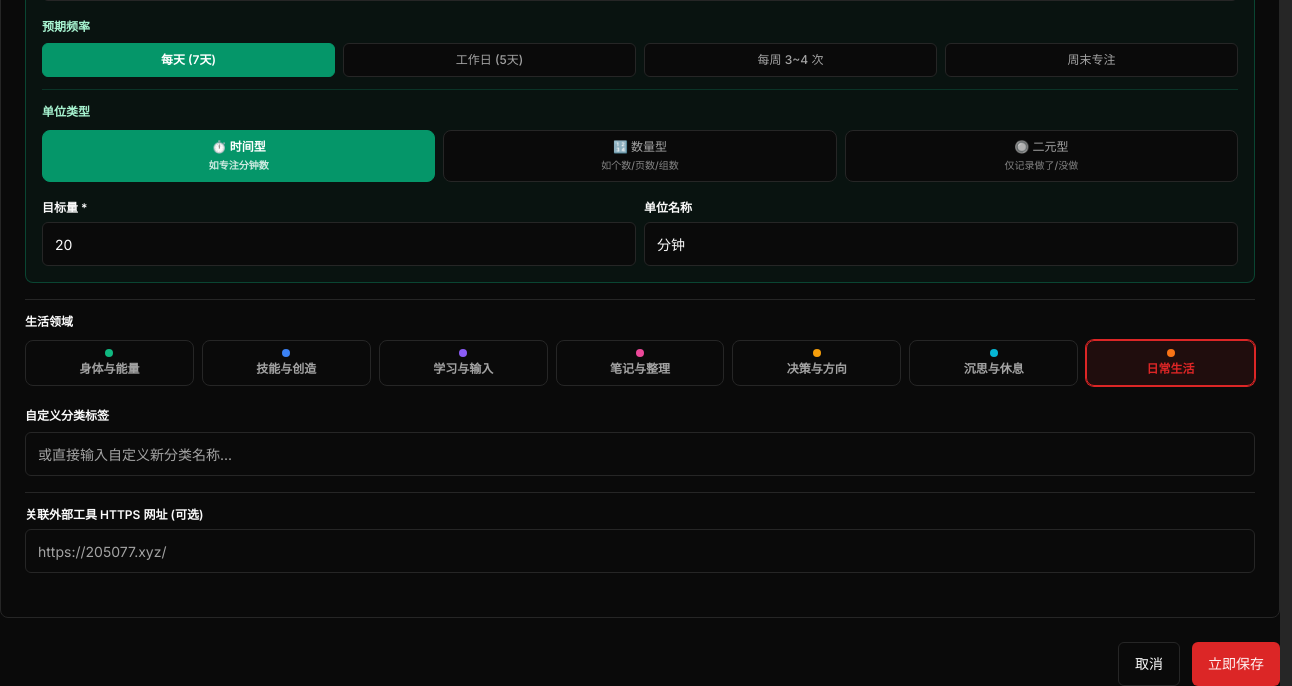
Test case: life-layer default URL examples › fills an empty full-form URL with Enter and tracks it as a recommendation
(page scrolled)
Focus the field labelled "关联外部工具 HTTPS 网址 (可选)" at (640, 551), box [25,529,1255,573]
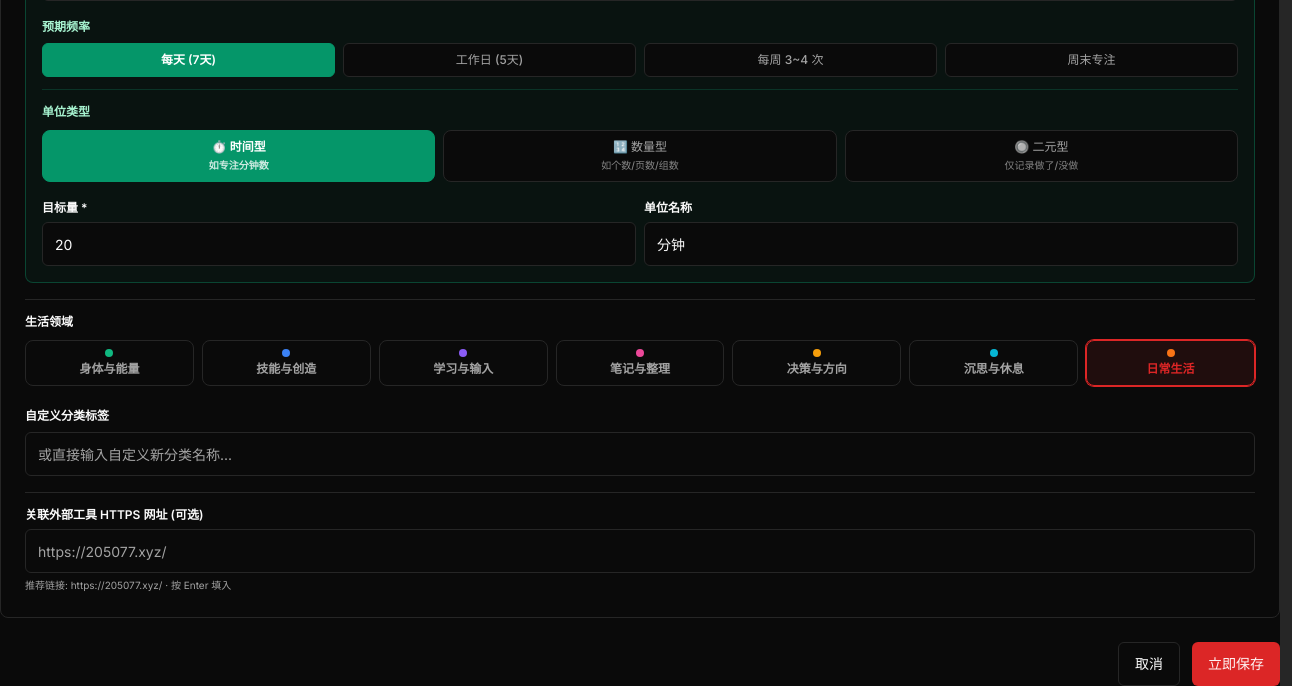
Press Enter in the field labelled "关联外部工具 HTTPS 网址 (可选)", box [25,529,1255,573]
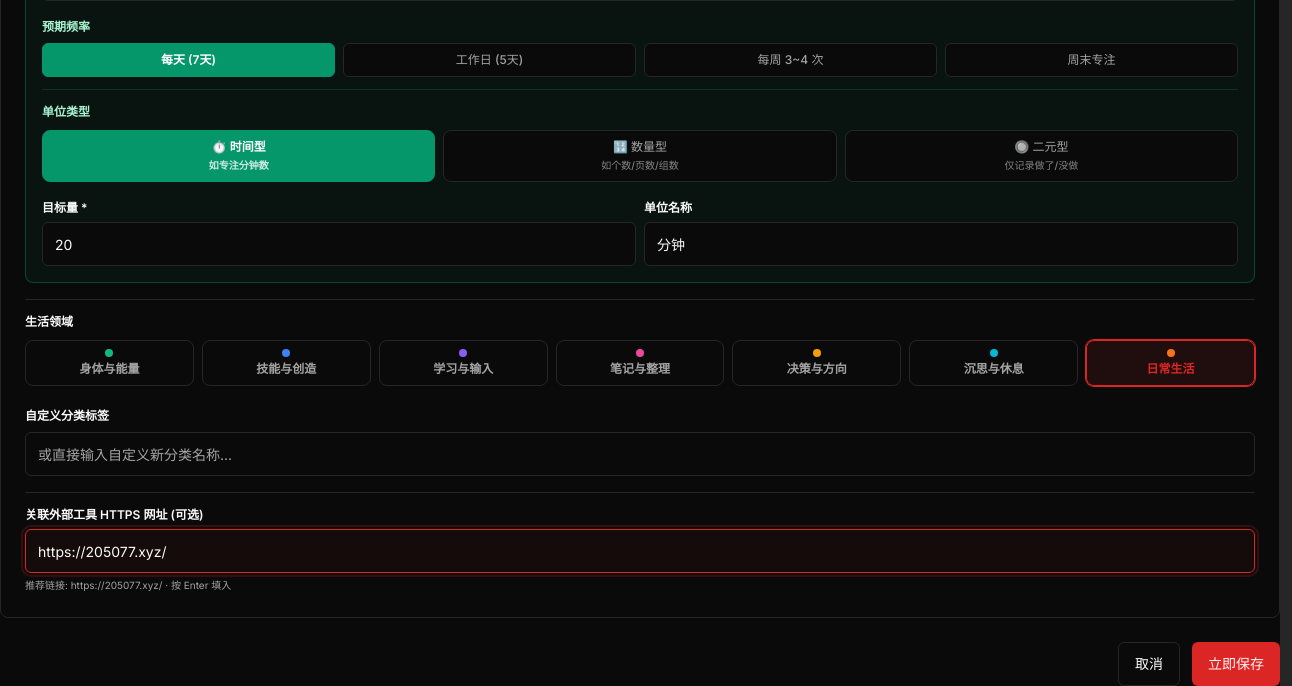
Expected: the field labelled "关联外部工具 HTTPS 网址 (可选)" holds "https://205077.xyz/", [25,529,1255,573]
Click the button "学习与输入".
click(463, 363)  # box [379,340,548,386]
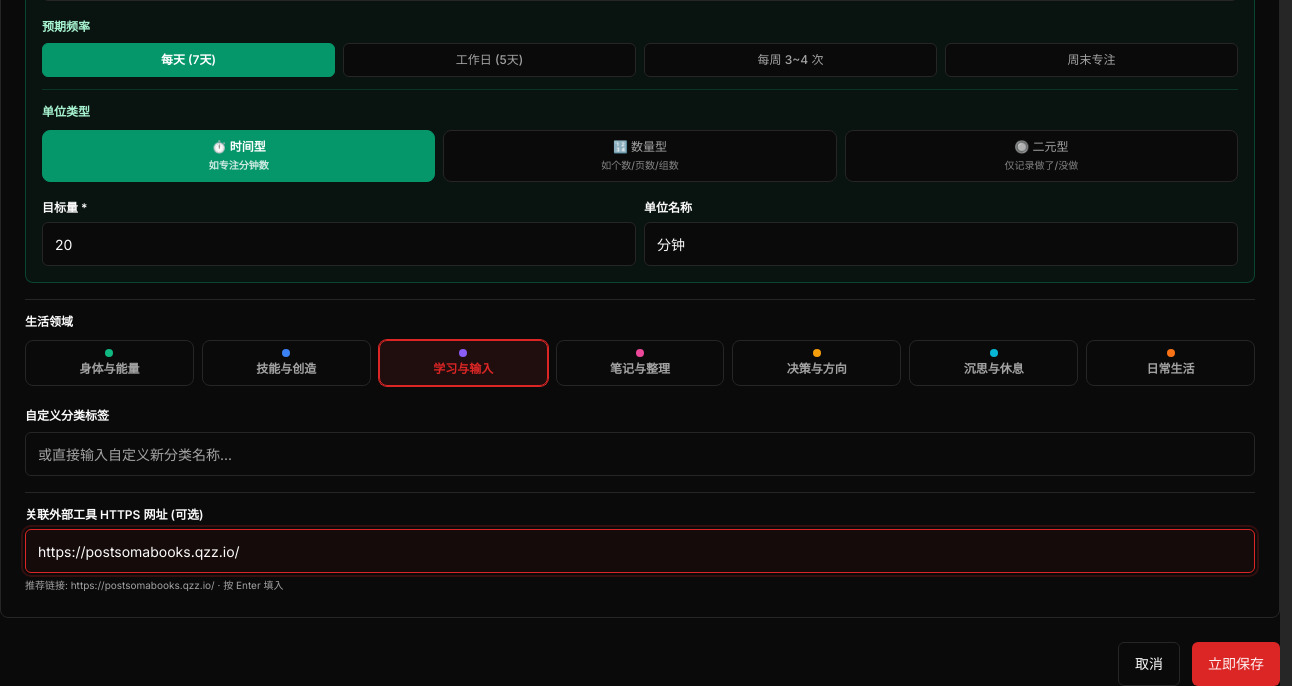
Expected: the field labelled "关联外部工具 HTTPS 网址 (可选)" holds "https://postsomabooks.qzz.io/", [25,529,1255,573]
